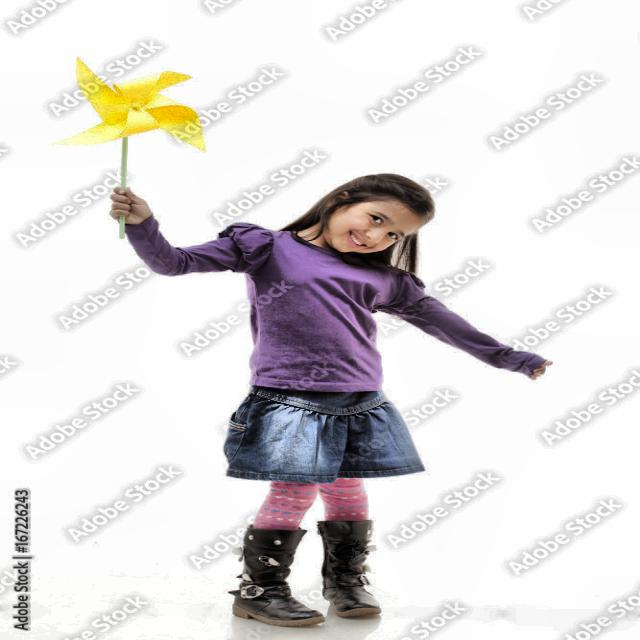Human: (113, 146, 535, 640)
